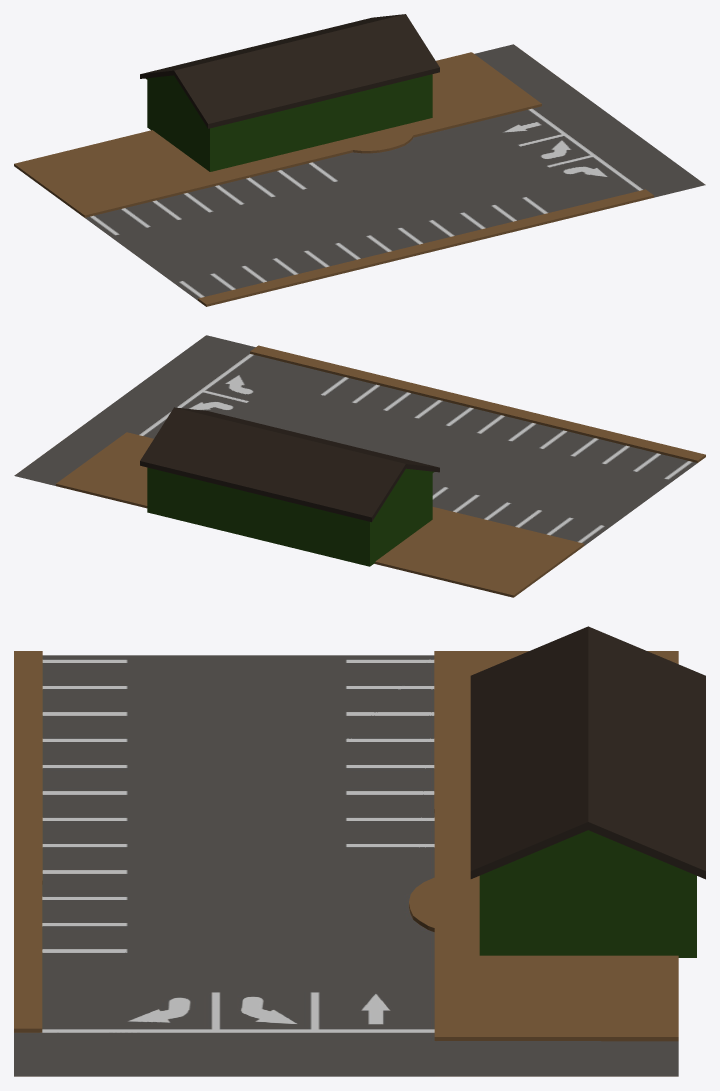
File: parking-WIP.glb
The picture shows the model from 3 angles, top to bottom: view 1: azimuth 30°, elevation 25°; view 2: azimuth 150°, elevation 25°; view 3: azimuth 270°, elevation 25°; orthographic projection. The views are drawn at different scales.
Parts seen in each view (by area): view 1: Parking Lot, Bar; view 2: Parking Lot, Bar; view 3: Parking Lot, Bar.
Boxes of the visible parts, x1,y1,x2,y2 form: Parking Lot: [14, 44, 705, 306]; Bar: [140, 14, 439, 171]; Parking Lot: [14, 335, 705, 597]; Bar: [140, 407, 439, 566]; Parking Lot: [14, 651, 678, 1076]; Bar: [470, 626, 705, 957].
Size of the model in its own units: 110 by 17.21 by 76.11.
2 materials, 2 textured.
